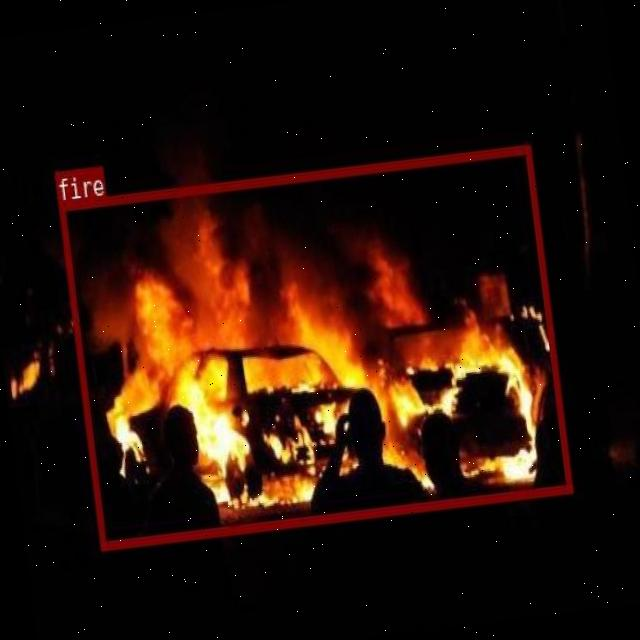fire: (56, 144, 572, 548)
